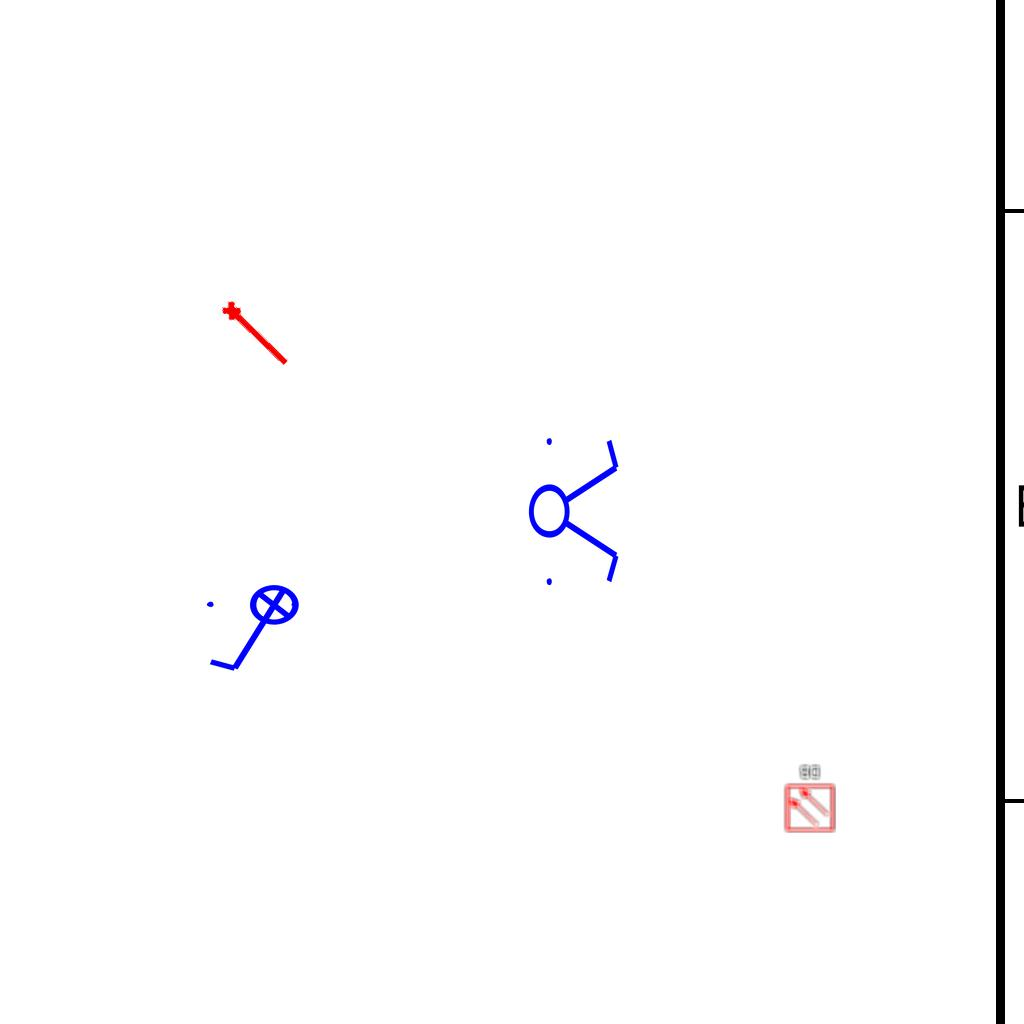ASR_Ansaugoeffnung: (217, 294, 297, 373)
Ausschalter_beleuchtet: (201, 583, 313, 679)
DB_Melder_in_Doppelboden_mit_Revisionsoeffnung_mind_40_x_40_cm: (781, 761, 838, 835)
Serienschalter: (527, 426, 623, 594)
